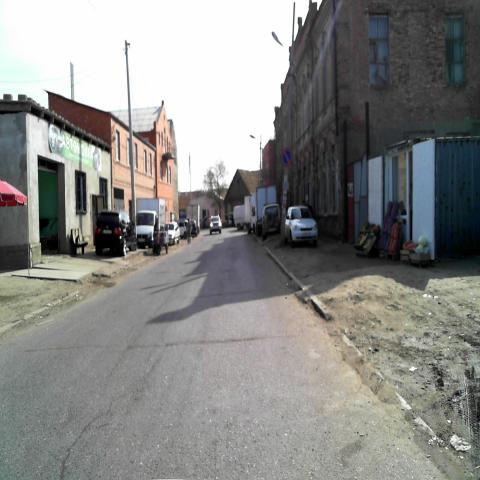3_28: (282, 147, 292, 164)
